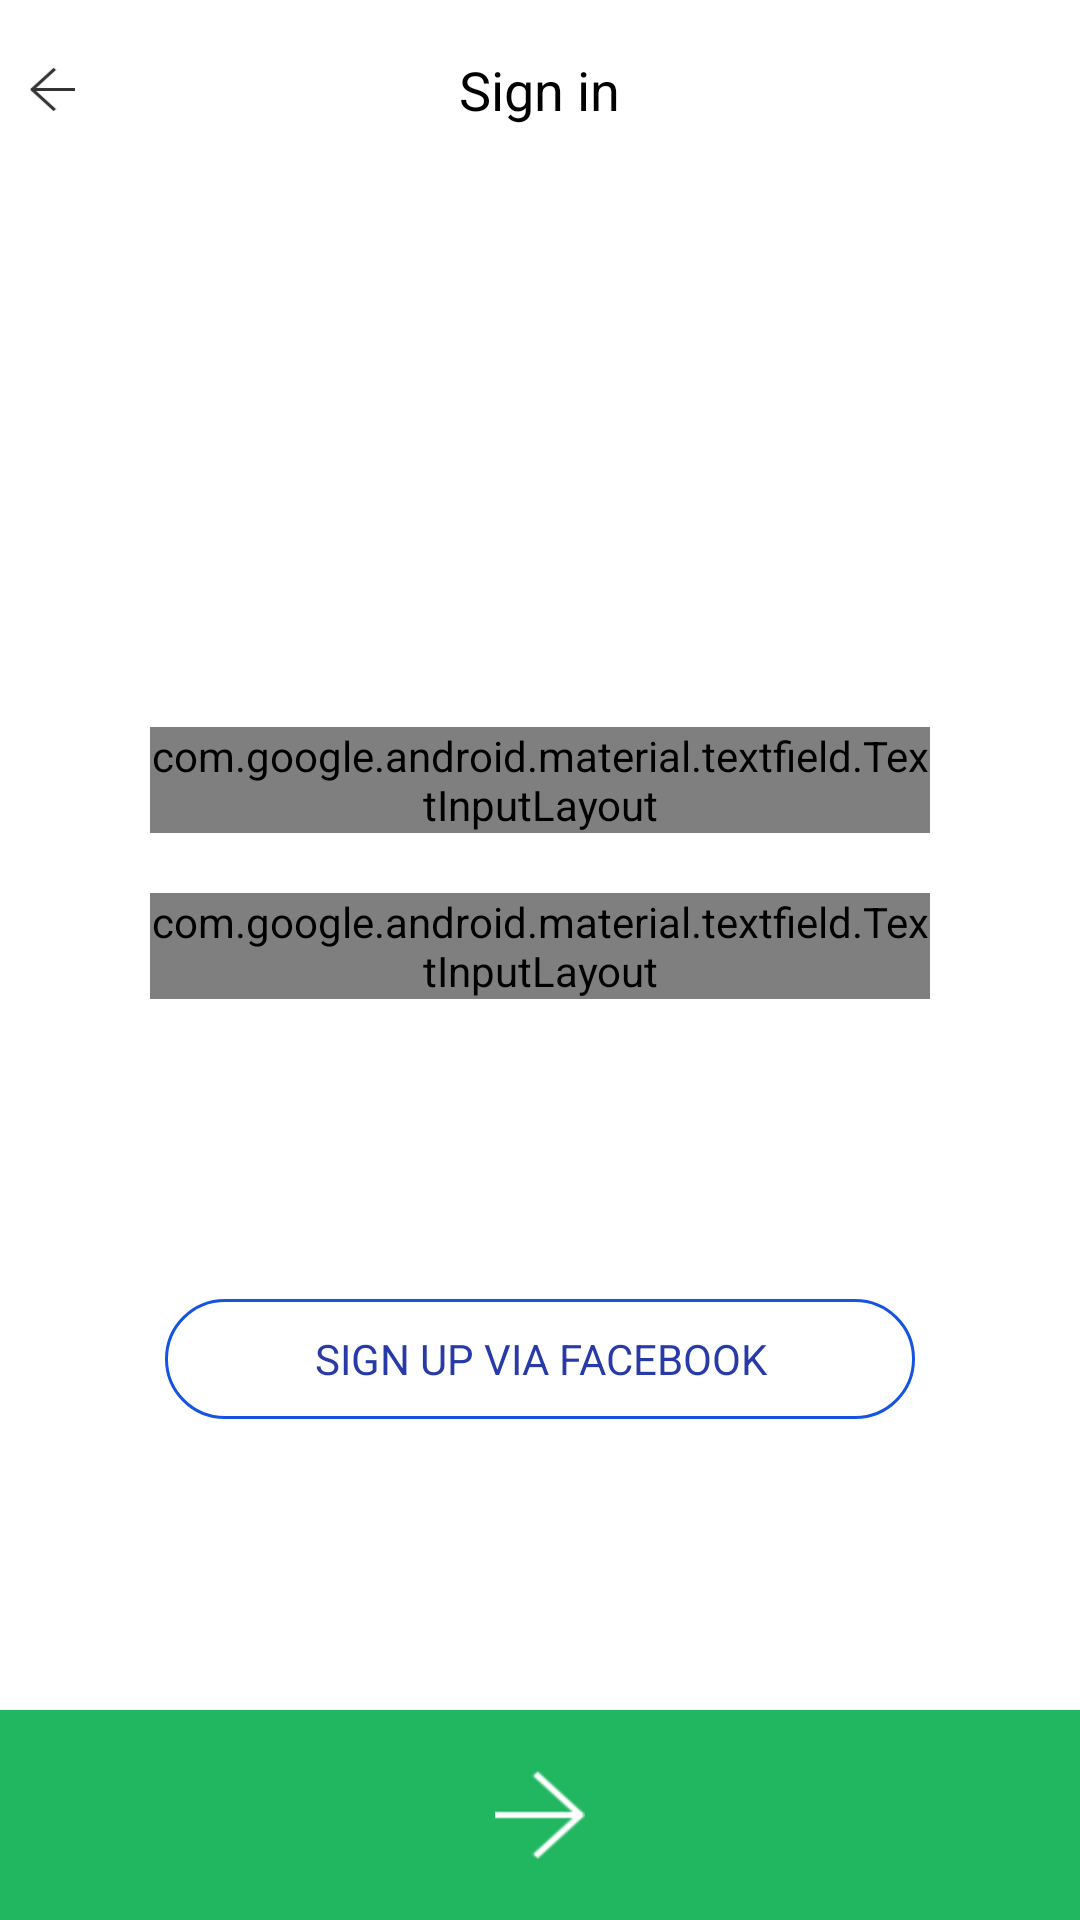

Where icons sit on this 1080x1920 app screen, as detection(x1, y1, x2, y2):
back: detection(30, 68, 75, 111)
